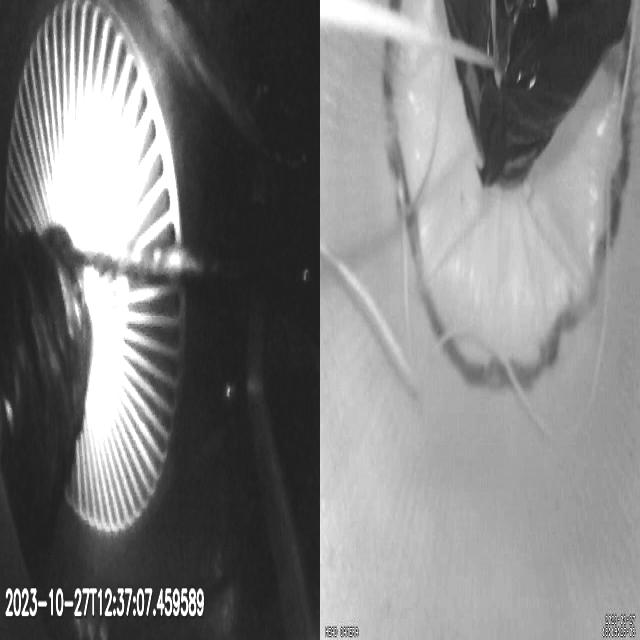red-circle: (381, 0, 636, 389)
